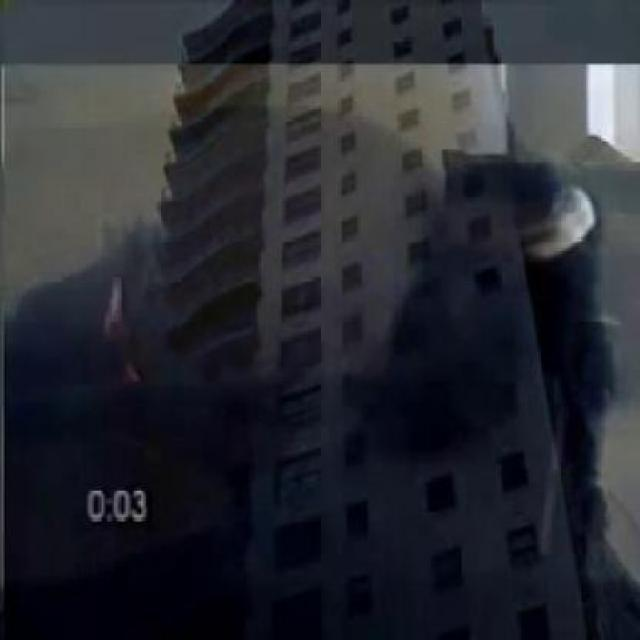smoke: (10, 253, 296, 510), (362, 178, 618, 454)
